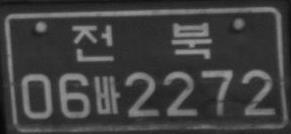0: (20, 71, 53, 119)
2: (162, 70, 198, 117), (125, 70, 160, 117), (242, 68, 276, 115)
6: (58, 72, 91, 119)
7: (200, 69, 234, 118)
바: (93, 75, 121, 114)
전북_D: (71, 20, 212, 61)
